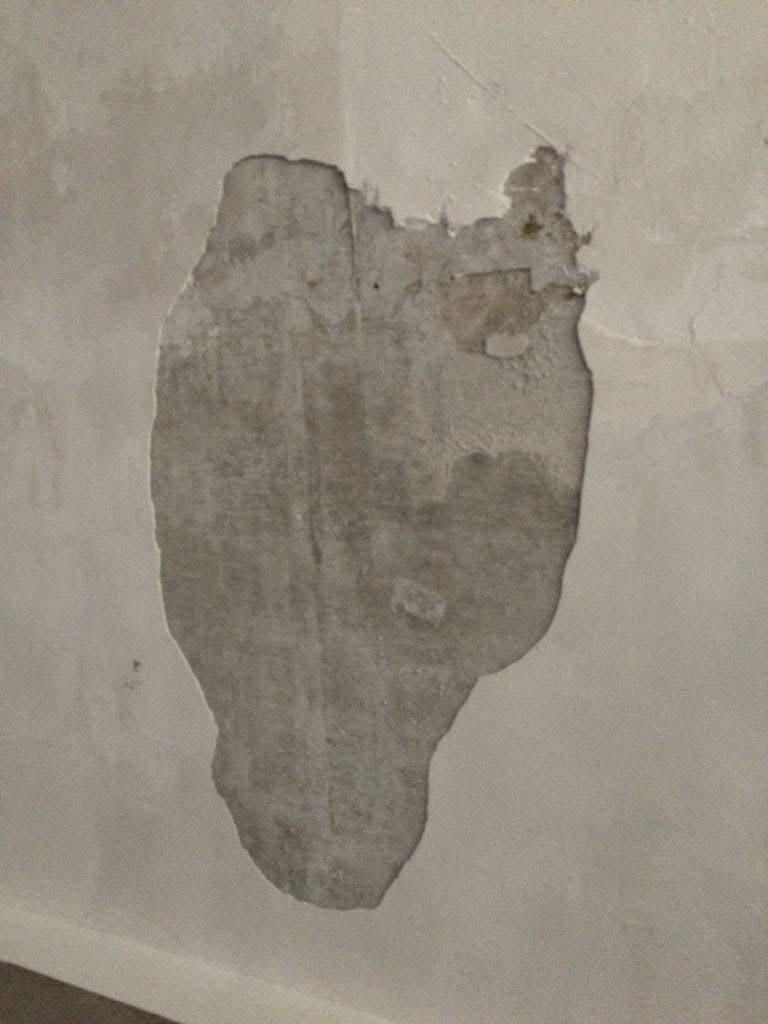Spalling: (148, 143, 596, 910)
